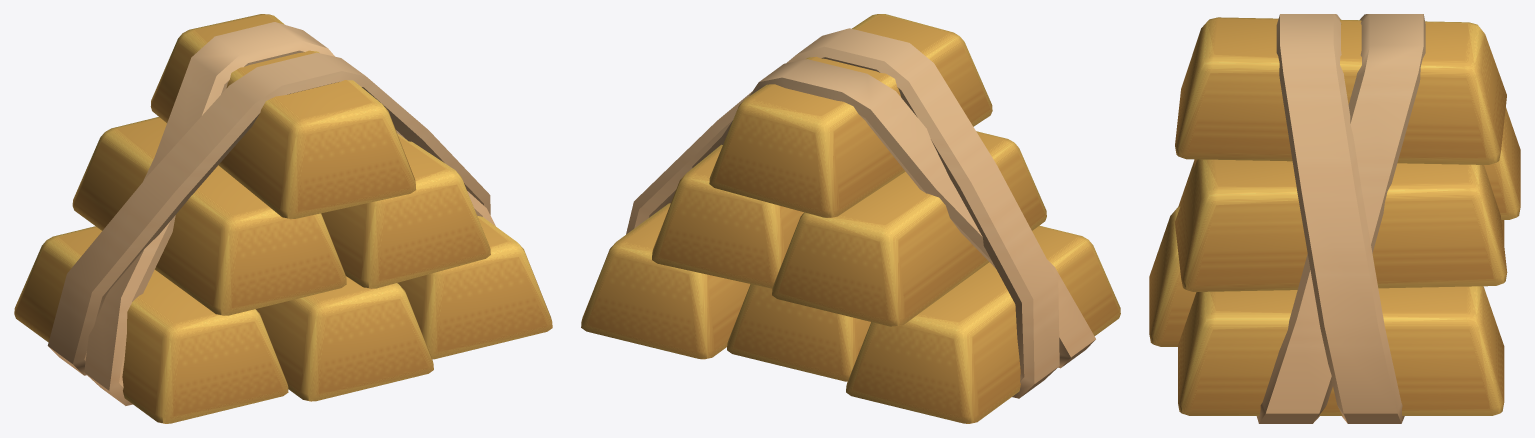
File: Gold_Bars.gltf
3 views of the same model, side by side, from view 1: azimuth 30°, elevation 25°; view 2: azimuth 150°, elevation 25°; view 3: azimuth 270°, elevation 25° (orthographic). The views are drawn at different scales.
Visible parts, largest first — view 1: Gold_Bars; view 2: Gold_Bars; view 3: Gold_Bars.
Boxes of the visible parts, bbox=[...] form: Gold_Bars: bbox=[14, 14, 552, 423]; Gold_Bars: bbox=[581, 14, 1120, 423]; Gold_Bars: bbox=[1149, 14, 1520, 423].
Bounding box in the file's own units: 1.27 × 0.7897 × 0.9106.
Materials: 1 (1 with a texture image).
